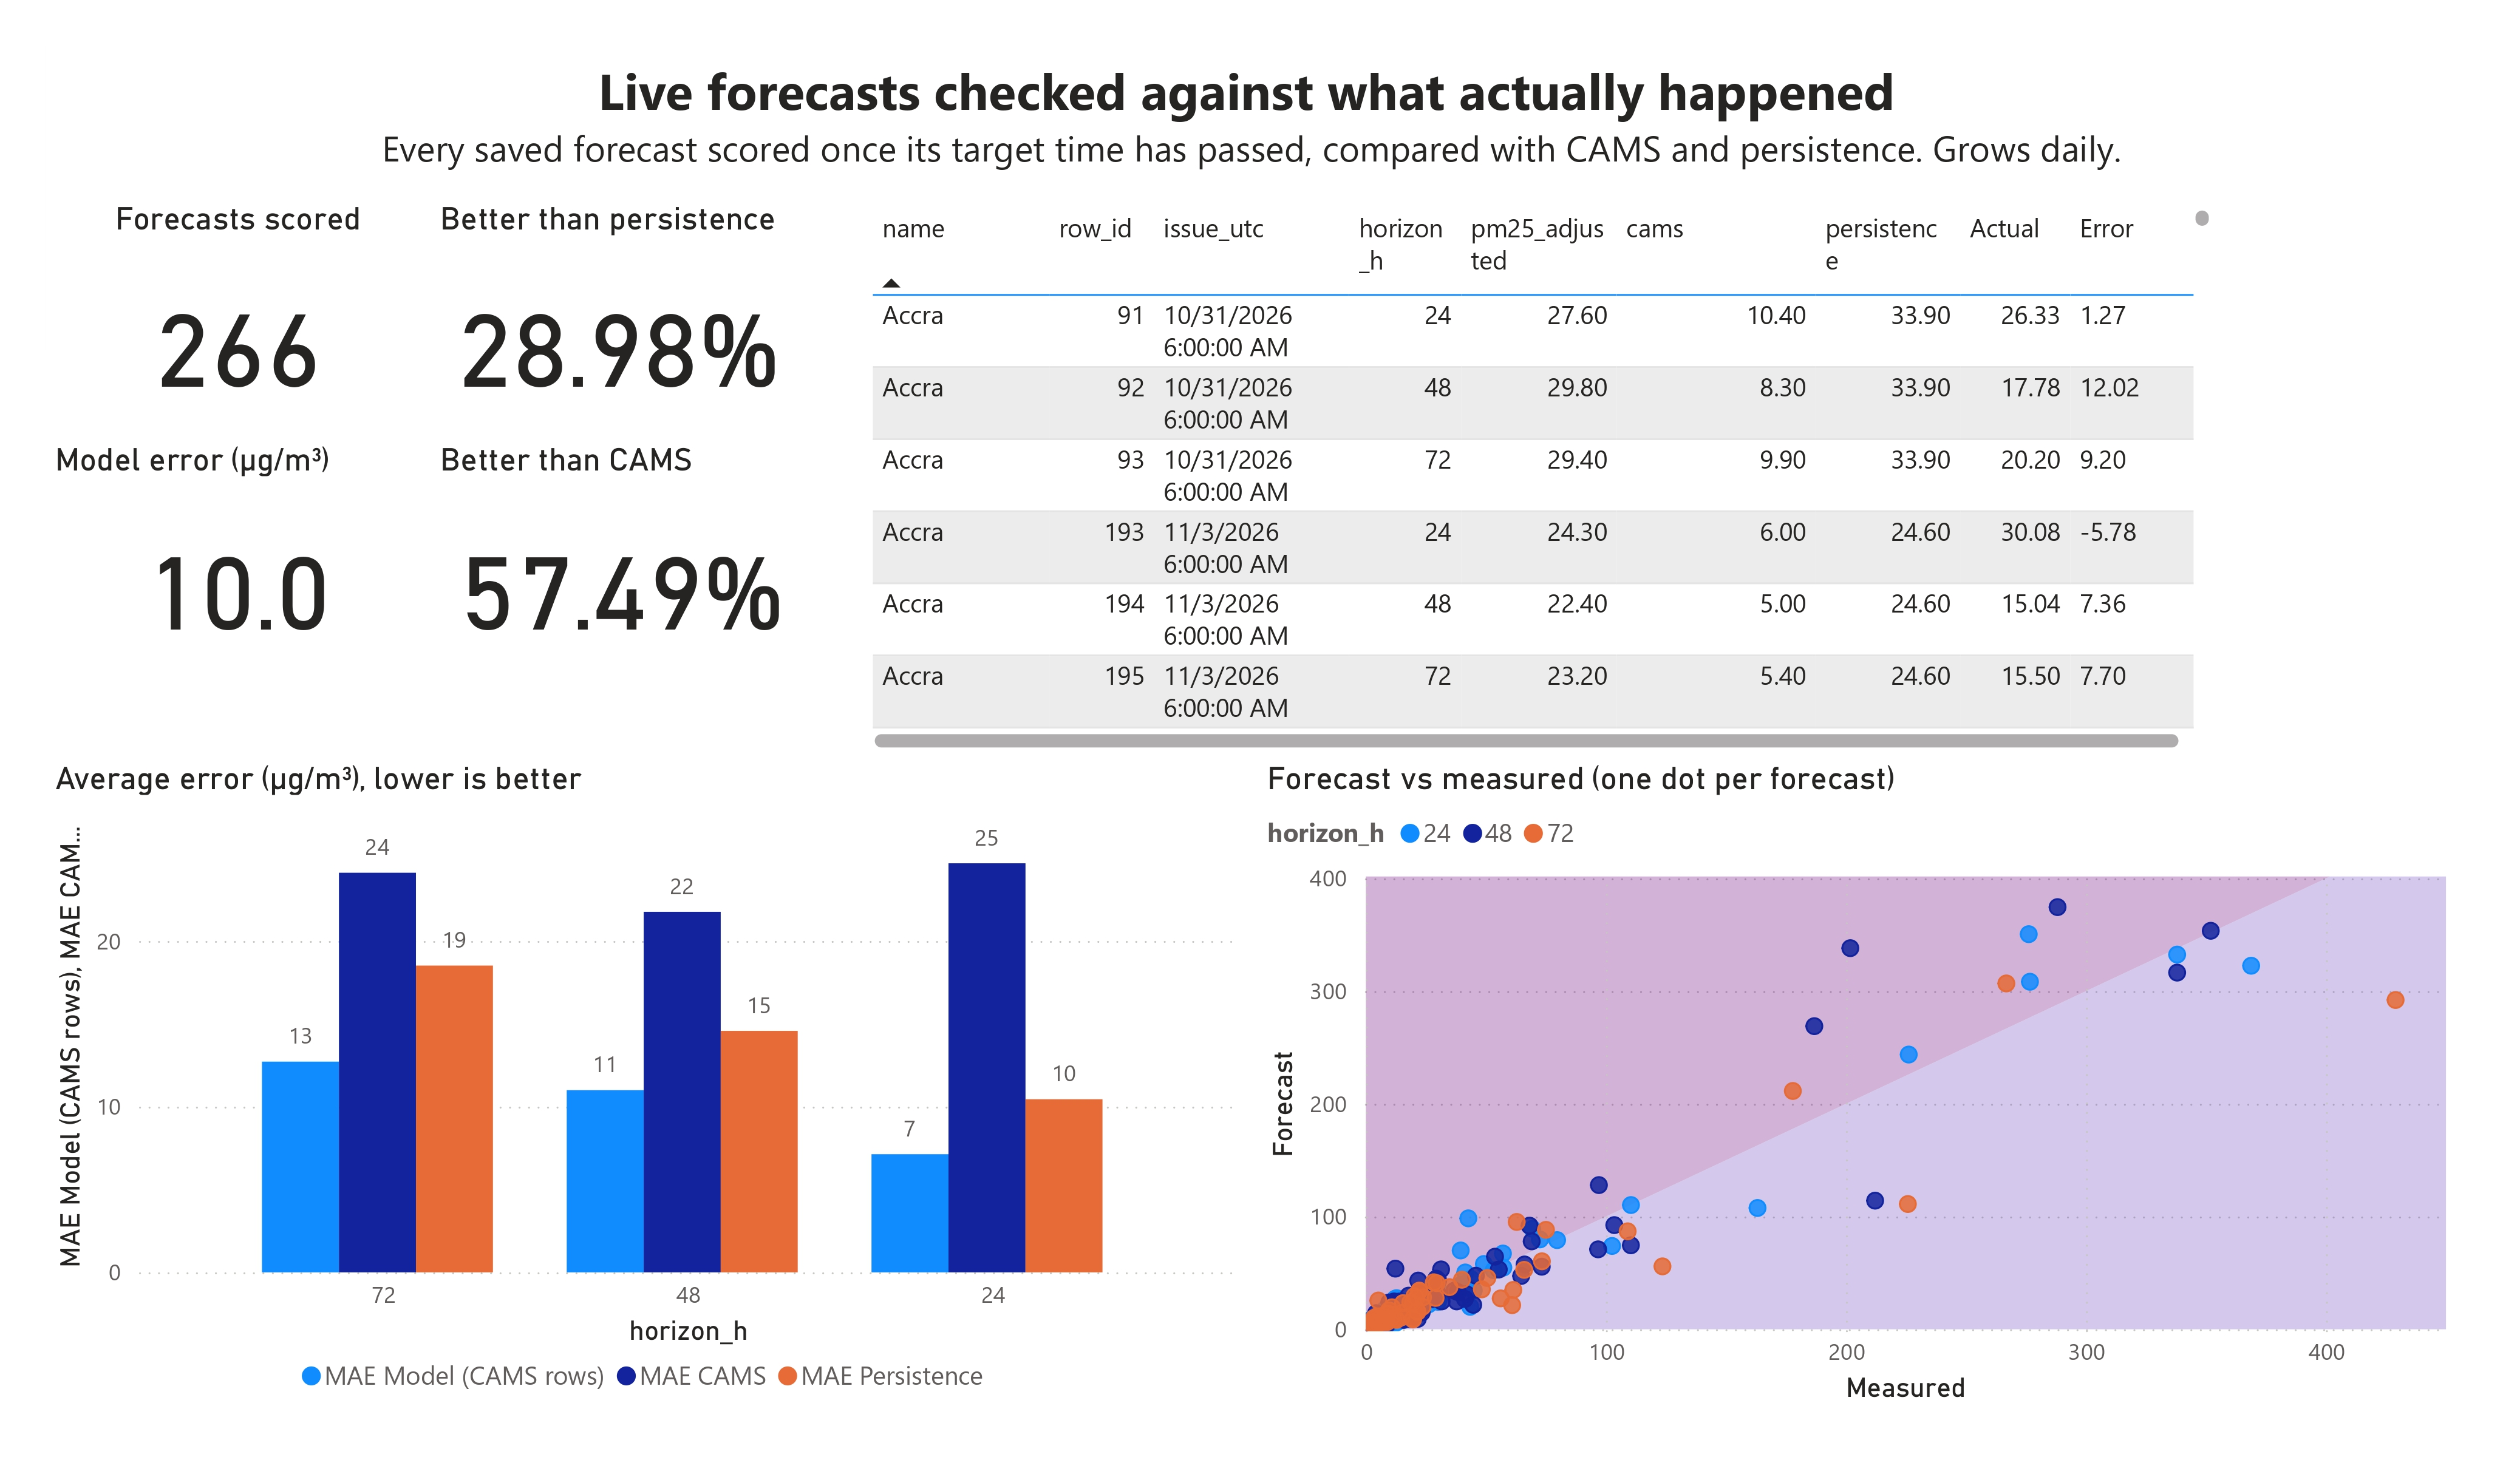

The dashboard page shown, as its layout file describes it:
{"tool":"powerbi","page":{"name":"Forecast vs actual","canvas":[1280,720],"ordinal":3},"visuals":[{"type":"card","title":"Forecasts scored","fields":{"Values":["_Measures.Forecasts Scored"]},"box":[0,80.7,203.1,127.6],"z":0},{"type":"card","title":"Better than persistence","fields":{"Values":["_Measures.Skill vs Persistence"]},"box":[203.1,80.7,197.6,127.6],"z":1000},{"type":"card","title":"Model error (µg/m³)","fields":{"Values":["_Measures.MAE Model"]},"box":[0,208.3,203.1,129],"z":2000},{"type":"card","title":"Better than CAMS","fields":{"Values":["_Measures.Skill vs CAMS"]},"box":[203.1,208.3,200.3,129],"z":3000},{"type":"clusteredColumnChart","title":"Average error (µg/m³), lower is better","fields":{"Category":["Forecasts.horizon_h"],"Y":["_Measures.MAE Model (CAMS rows)","_Measures.MAE CAMS","_Measures.MAE Persistence"]},"box":[0,376,632.6,344.4],"z":4000},{"type":"scatterChart","title":"Forecast vs measured (one dot per forecast)","fields":{"Category":["Forecasts.row_id"],"X":["Sum(Forecasts.Actual)"],"Y":["Sum(Forecasts.pm25_adjusted)"],"Series":["Forecasts.horizon_h"]},"box":[639.5,376,640.8,344.4],"z":5000},{"type":"tableEx","fields":{"Values":["Cities.name","Forecasts.row_id","Forecasts.issue_utc","Forecasts.horizon_h","Forecasts.pm25_adjusted","Forecasts.cams","Forecasts.persistence","Forecasts.Actual","Forecasts.Error"]},"box":[429.5,80.7,716.3,295],"z":6000},{"type":"textbox","box":[0,0,1265.6,72.4],"z":7000}]}

Visuals, with their boxes on the page's 1280x720 design canvas (x1, y1, x2, y2). These are canvas units, not pixel positions in the 2520x1457 screenshot, which may show the page scaled, cropped or inside an application window:
"Forecasts scored" card: [x1=0, y1=81, x2=203, y2=208]
"Better than persistence" card: [x1=203, y1=81, x2=401, y2=208]
"Model error (µg/m³)" card: [x1=0, y1=208, x2=203, y2=337]
"Better than CAMS" card: [x1=203, y1=208, x2=403, y2=337]
"Average error (µg/m³), lower is better" clusteredColumnChart: [x1=0, y1=376, x2=633, y2=720]
"Forecast vs measured (one dot per forecast)" scatterChart: [x1=640, y1=376, x2=1280, y2=720]
tableEx - Cities.name x Forecasts.row_id: [x1=430, y1=81, x2=1146, y2=376]
textbox: [x1=0, y1=0, x2=1266, y2=72]
